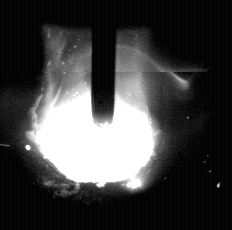arame: (92, 0, 116, 127)
poca: (34, 0, 156, 230)
